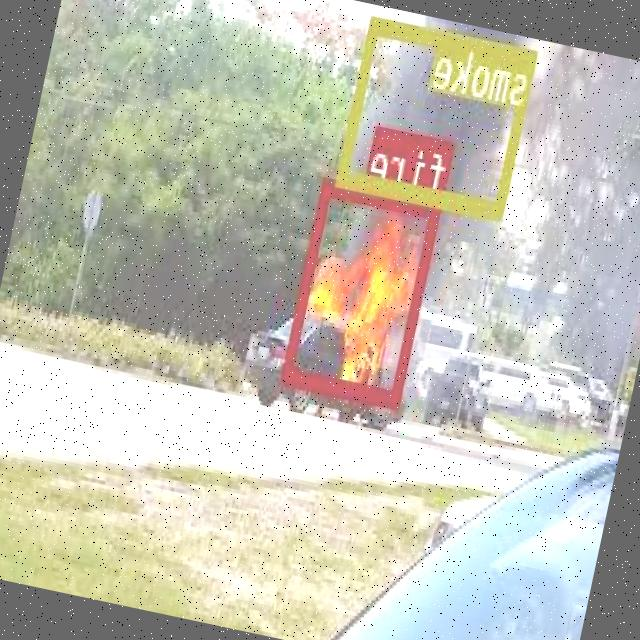fire: (283, 177, 444, 406)
smoke: (338, 12, 539, 218)
